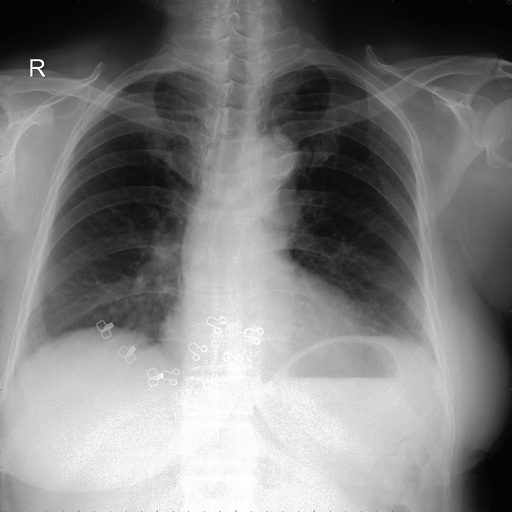Consolidation: (235, 135, 296, 183)
Nodule/Mass: (155, 298, 371, 348)
